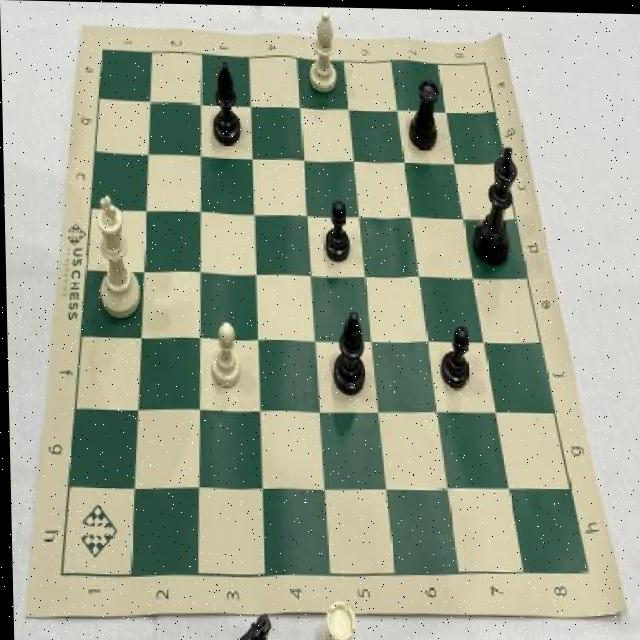bishop: (324, 303, 372, 399), (207, 56, 248, 153)
black-bishop: (467, 134, 520, 274)
black-knight: (432, 315, 471, 393), (317, 191, 358, 265)
black-queen: (404, 72, 447, 151)
black-rook: (308, 6, 349, 98)
white-bishop: (91, 178, 149, 328)
white-knight: (207, 313, 248, 390)
